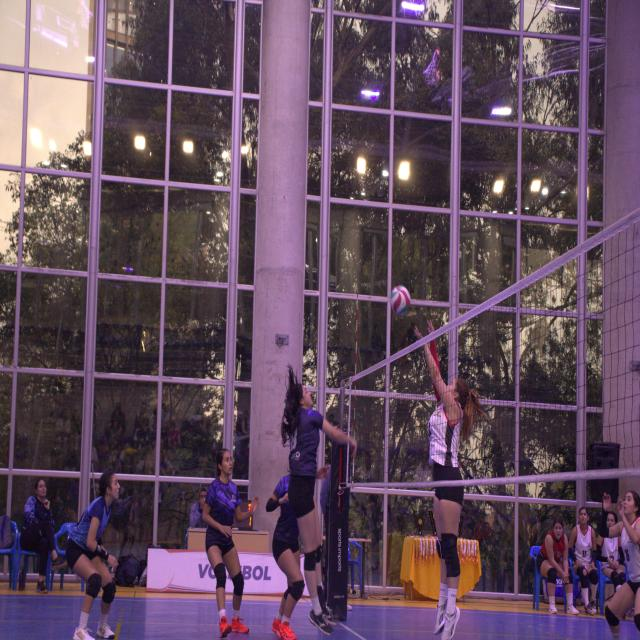volleyball: (390, 286, 411, 316)
